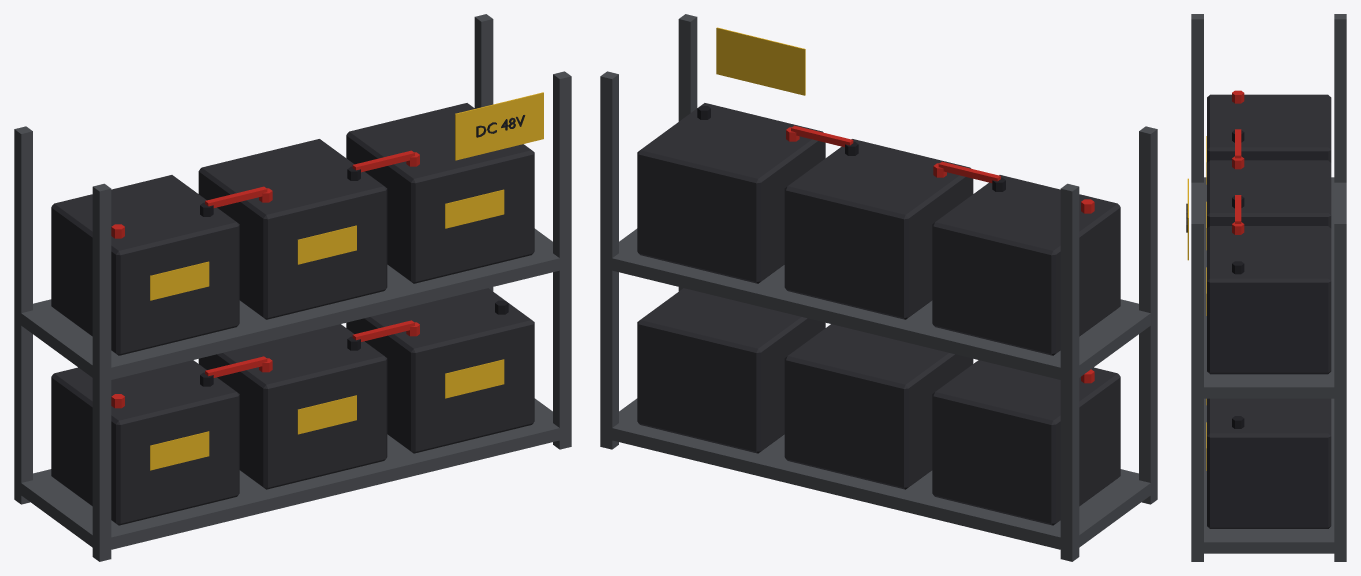
The model's file is dc.ups-batteries.glb.
3 renders of one model, left to right at view 1: azimuth 30°, elevation 25°; view 2: azimuth 150°, elevation 25°; view 3: azimuth 270°, elevation 25°, orthographic. The views are drawn at different scales.
Visible parts, largest first — view 1: bat3, bat4, bat0, bat5, bat1, bat2, shelf0.05, shelf0.6, post-11, post11, post-1-1, warning (+7 smaller); view 2: bat3, bat4, bat5, bat0, bat1, bat2, shelf0.05, shelf0.6, post-1-1, post1-1, post-11, warning (+1 smaller); view 3: bat5, bat2, bat3, bat4, shelf0.6, shelf0.05, post1-1, post11, post-1-1, post-11.
Part boxes in pixels (x1=…): bat3: x1=51, y1=175, x2=239, y2=355; bat4: x1=198, y1=139, x2=387, y2=319; bat0: x1=51, y1=360, x2=239, y2=525; bat5: x1=346, y1=103, x2=534, y2=283; bat1: x1=198, y1=324, x2=387, y2=489; bat2: x1=346, y1=288, x2=534, y2=453; shelf0.05: x1=14, y1=398, x2=571, y2=552; shelf0.6: x1=14, y1=228, x2=561, y2=382; post-11: x1=92, y1=183, x2=111, y2=561; post11: x1=553, y1=71, x2=571, y2=449; post-1-1: x1=14, y1=126, x2=32, y2=504; warning: x1=455, y1=92, x2=543, y2=160; bat3: x1=932, y1=175, x2=1120, y2=355; bat4: x1=784, y1=139, x2=973, y2=319; bat5: x1=637, y1=103, x2=825, y2=283; bat0: x1=932, y1=360, x2=1120, y2=525; bat1: x1=784, y1=324, x2=973, y2=489; bat2: x1=637, y1=288, x2=825, y2=453; shelf0.05: x1=600, y1=398, x2=1157, y2=552; shelf0.6: x1=600, y1=228, x2=1157, y2=382; post-1-1: x1=1060, y1=183, x2=1079, y2=561; post1-1: x1=600, y1=71, x2=618, y2=449; post-11: x1=1139, y1=126, x2=1157, y2=504; warning: x1=716, y1=27, x2=805, y2=95; bat5: x1=1207, y1=226, x2=1331, y2=374; bat2: x1=1207, y1=398, x2=1331, y2=528; bat3: x1=1207, y1=94, x2=1331, y2=162; bat4: x1=1207, y1=160, x2=1331, y2=228; shelf0.6: x1=1191, y1=177, x2=1346, y2=398; shelf0.05: x1=1191, y1=398, x2=1346, y2=553; post1-1: x1=1334, y1=219, x2=1346, y2=561; post11: x1=1191, y1=219, x2=1203, y2=561; post-1-1: x1=1334, y1=14, x2=1346, y2=182; post-11: x1=1191, y1=14, x2=1203, y2=182.
Size of the model in its own units: 1.6 by 1.2 by 0.517.
